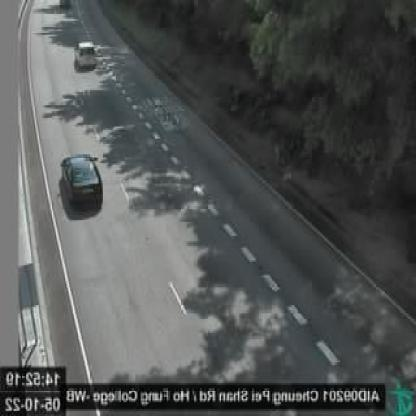Car: (63, 152, 106, 200), (76, 40, 100, 69)
